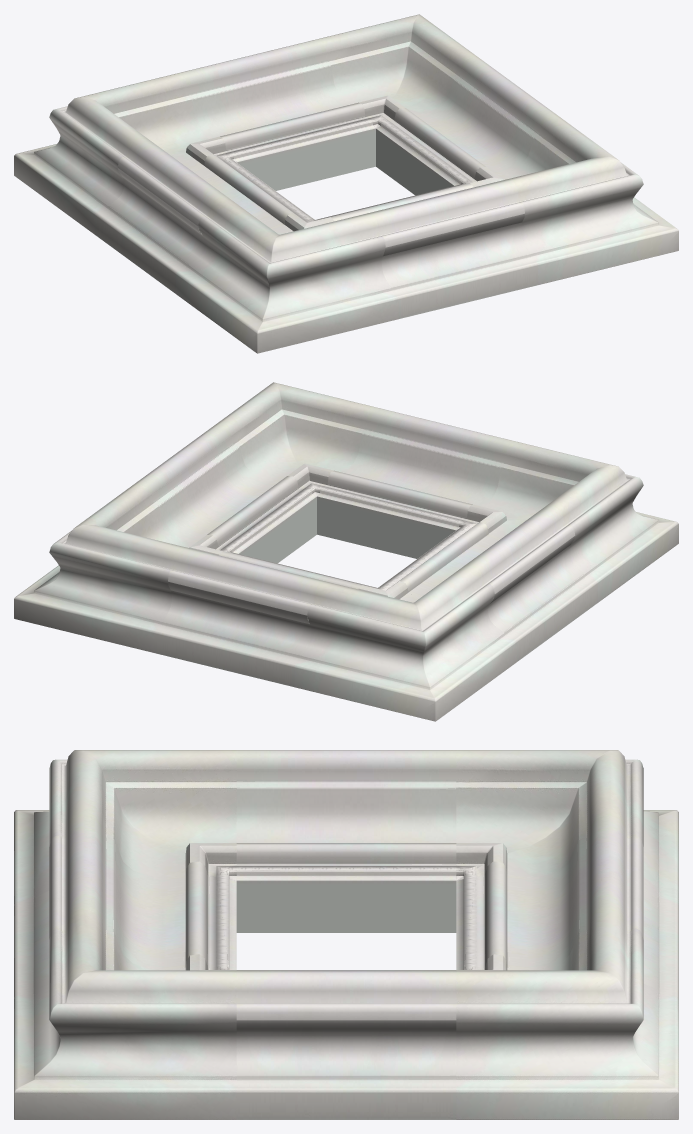
Rendered from 9901 Perlamutr-beg.FBX.
3 renders of one model, top to bottom at view 1: azimuth 30°, elevation 25°; view 2: azimuth 150°, elevation 25°; view 3: azimuth 270°, elevation 25°, orthographic. The views are drawn at different scales.
Visible parts, largest first — view 1: 9901_rama_Botton_BEG_L, rama_9901_BEG_Top, 9901_rama_Botton_BEG_R, rama_9901_BEG_Bottom, 9901_rama_Top_BEG_L, rama_9901_BEG_L, rama_9901_BEG_R, 9901_rama_BEG_TopR; view 2: 9901_rama_Top_BEG_L, rama_9901_BEG_Bottom, 9901_rama_BEG_TopR, rama_9901_BEG_Top, 9901_rama_Botton_BEG_L, rama_9901_BEG_L, rama_9901_BEG_R, 9901_rama_Botton_BEG_R; view 3: rama_9901_BEG_L, 9901_rama_Botton_BEG_R, 9901_rama_BEG_TopR, rama_9901_BEG_R, 9901_rama_Botton_BEG_L, 9901_rama_Top_BEG_L, rama_9901_BEG_Top, rama_9901_BEG_Bottom.
Part boxes in pixels (box(x1,y1,x2,y2)): 9901_rama_Botton_BEG_L: box(175, 197, 398, 353); rama_9901_BEG_Top: box(178, 39, 375, 190); 9901_rama_Botton_BEG_R: box(459, 115, 678, 284); rama_9901_BEG_Bottom: box(320, 179, 537, 318); 9901_rama_Top_BEG_L: box(14, 73, 235, 234); rama_9901_BEG_L: box(95, 138, 314, 293); rama_9901_BEG_R: box(376, 56, 558, 195); 9901_rama_BEG_TopR: box(318, 14, 478, 127); 9901_rama_Top_BEG_L: box(294, 565, 517, 721); rama_9901_BEG_Bottom: box(317, 407, 514, 558); 9901_rama_BEG_TopR: box(14, 483, 233, 652); rama_9901_BEG_Top: box(155, 547, 372, 686); 9901_rama_Botton_BEG_L: box(457, 441, 678, 602); rama_9901_BEG_L: box(378, 506, 597, 661); rama_9901_BEG_R: box(134, 424, 316, 563); 9901_rama_Botton_BEG_R: box(214, 382, 374, 495); rama_9901_BEG_L: box(236, 750, 456, 932); 9901_rama_Botton_BEG_R: box(14, 908, 236, 1119); 9901_rama_BEG_TopR: box(456, 908, 678, 1119); rama_9901_BEG_R: box(236, 970, 456, 1119); 9901_rama_Botton_BEG_L: box(14, 750, 236, 905); 9901_rama_Top_BEG_L: box(456, 750, 678, 905); rama_9901_BEG_Top: box(456, 815, 678, 998); rama_9901_BEG_Bottom: box(14, 815, 236, 998).
Bounding box in the file's own units: 394 × 394 × 76.85.
Materials: 2 (2 with a texture image).
